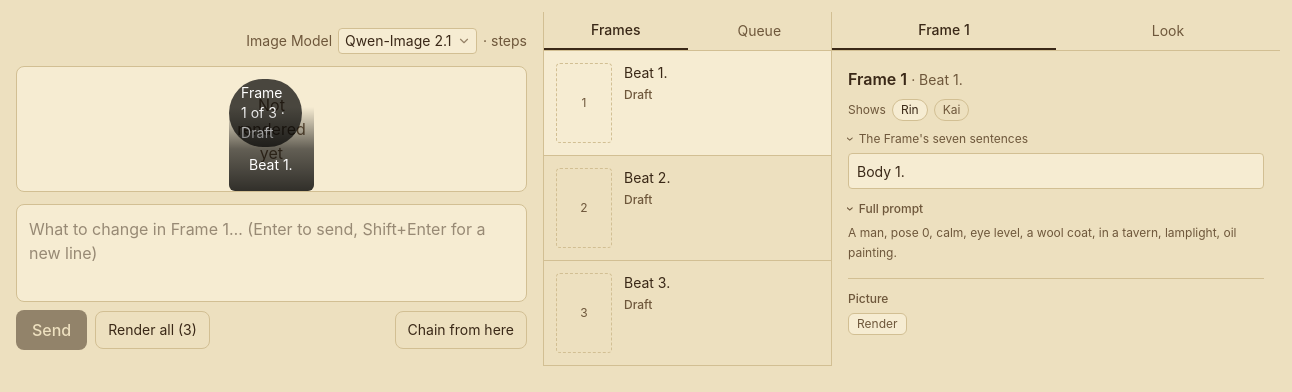
Scenario: StoryboardView › saves a hand-edited Frame
Replace the text in the 1st text box with "New body.": (1056, 171) [848,153,1264,189]
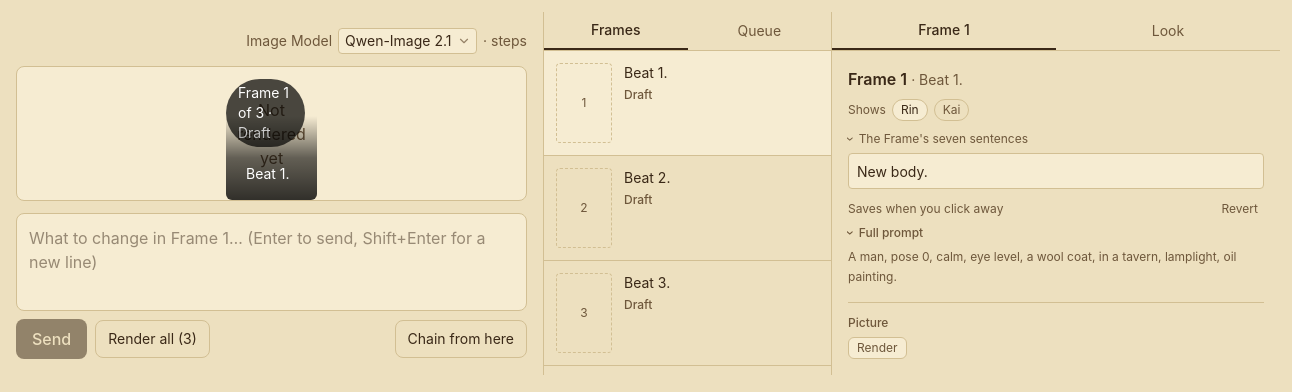
Expected: the element showing "Saves when you click away Revert" is shown, [848,201,1264,217]
Leave the form, box [848,67,1264,286]
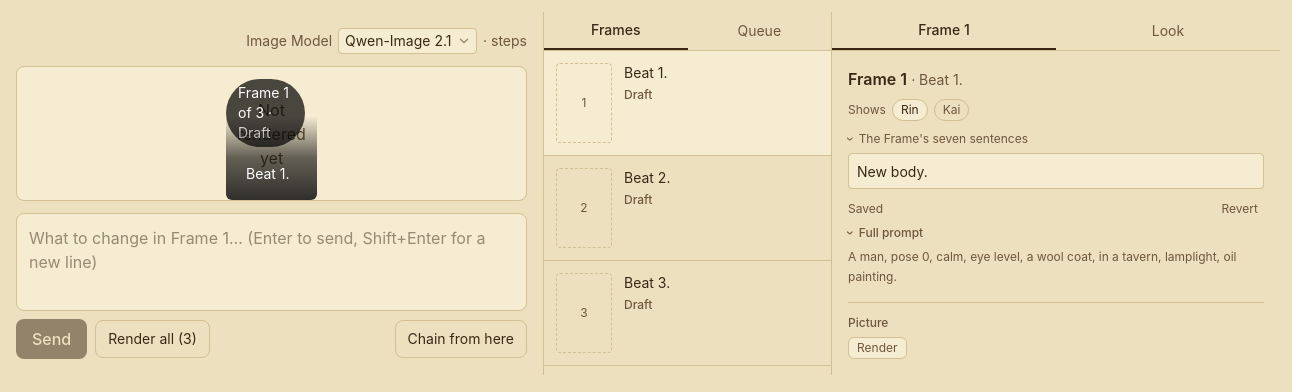
Expected: the element showing "Saved Revert" is shown, [848,201,1264,217]
